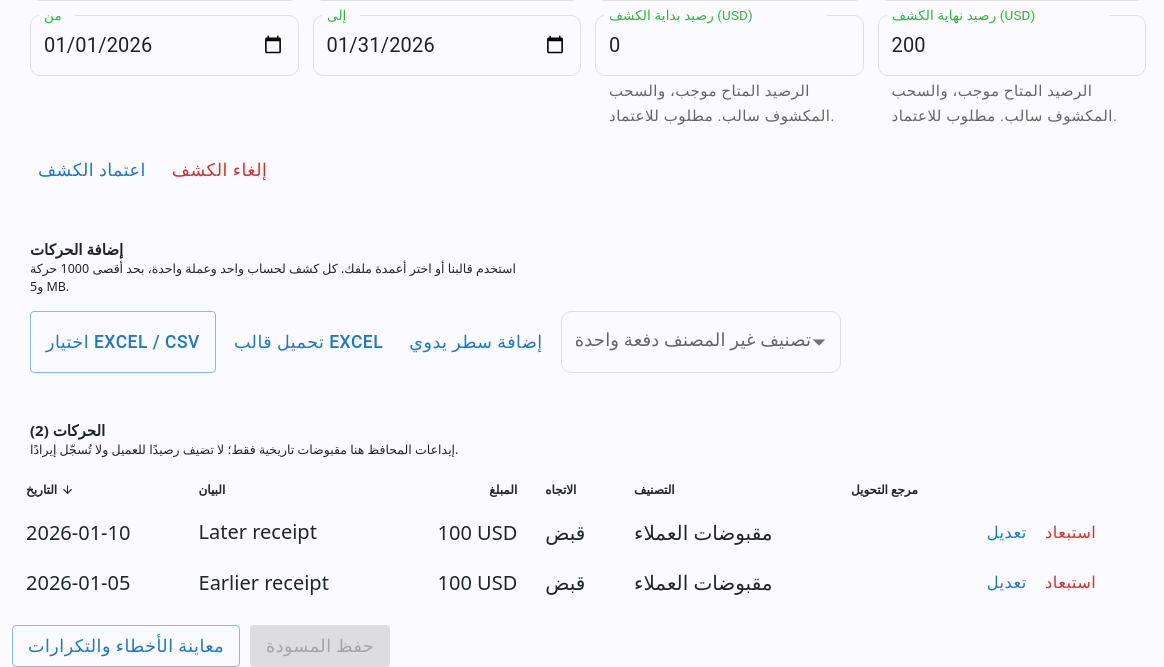
it: editing a date-sorted table row changes the selected movement rather than its original array position
(page scrolled)
Check: the text "Later receipt" is shown, box [198,518,317,545]
Click the button "تعديل" in the row of "2026-01-10" at (1007, 533), box [975,515,1039,551]
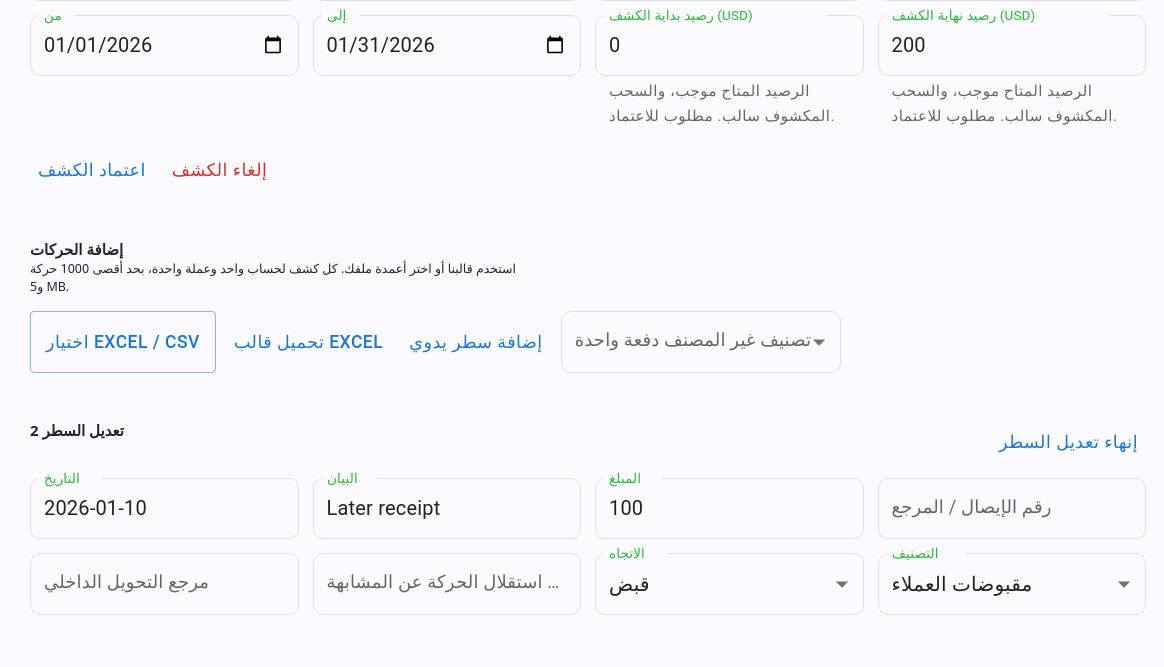
Check: the field labelled "البيان" holds "Later receipt", box [312,478,581,539]
